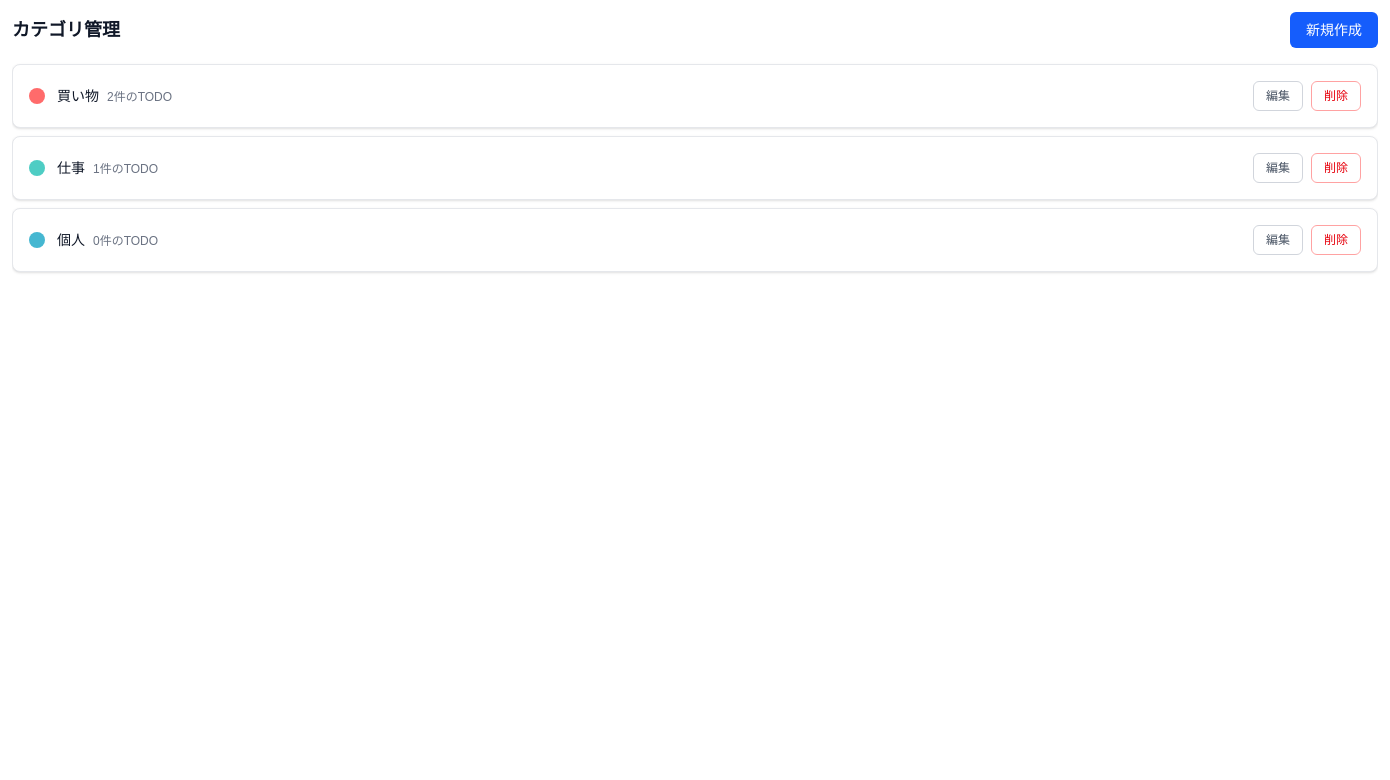
CategoryList › 削除確認で削除が実行されトーストが表示される
Check: the text "買い物" is shown, box [57, 88, 99, 104]
Click the button with aria-label "買い物を削除" at x=1336, y=96, box [1311, 81, 1361, 111]
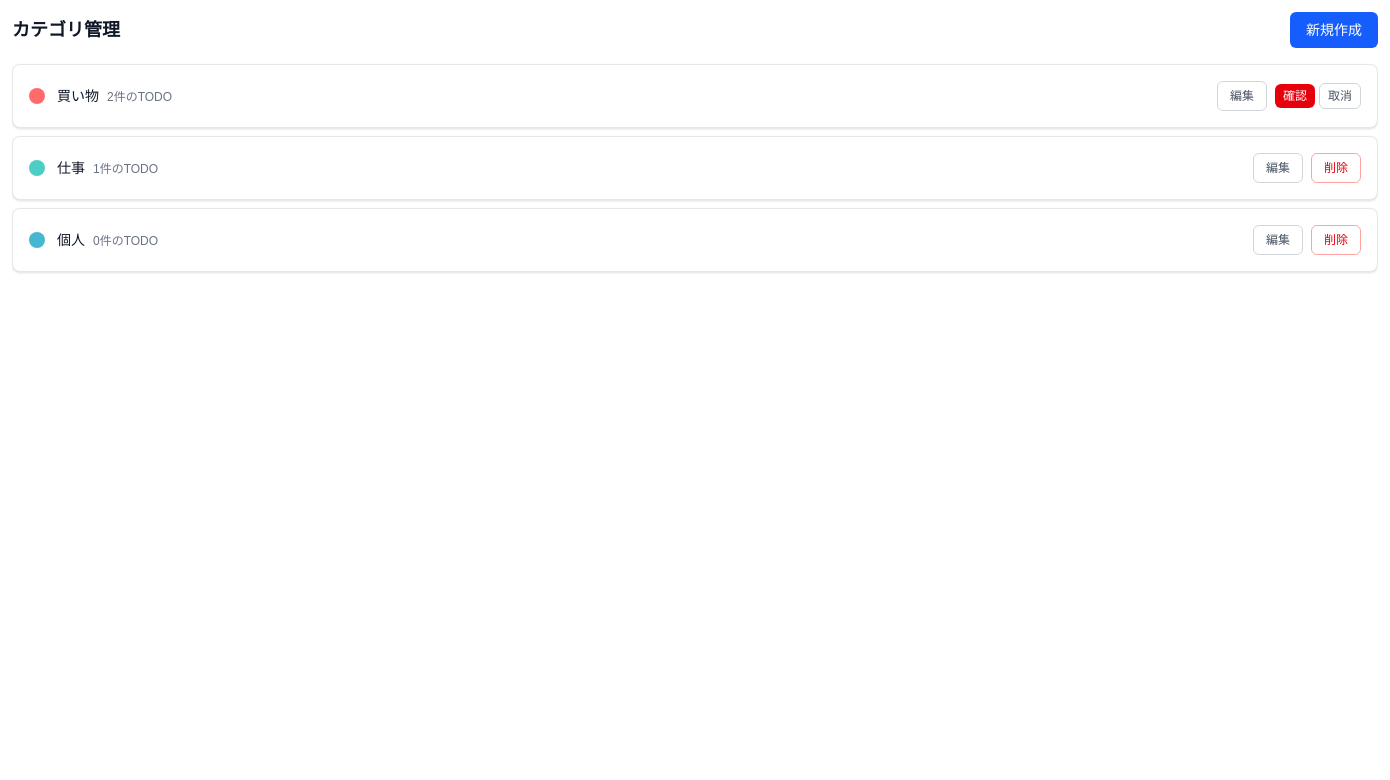
Click the button "確認" at x=1295, y=96, box [1275, 84, 1315, 108]
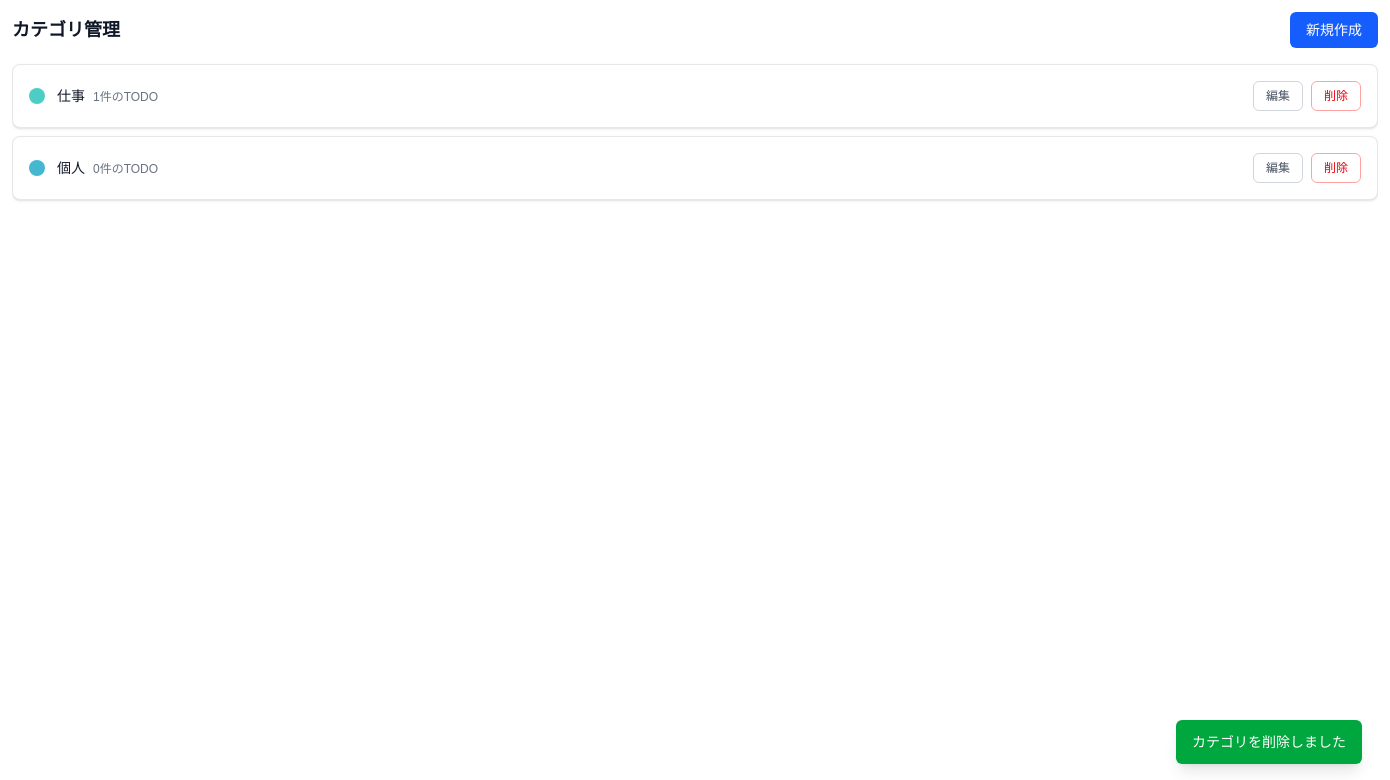
Check: the text "カテゴリを削除しました" is shown, box [1176, 720, 1362, 764]
